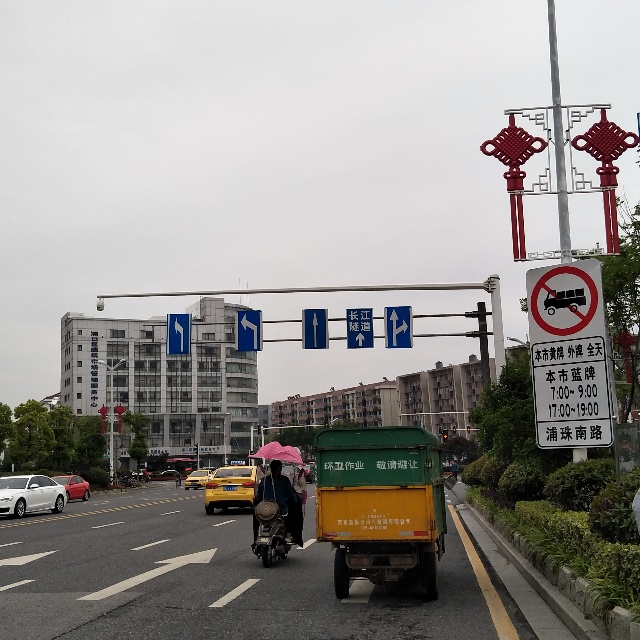left: (237, 310, 262, 353), (166, 313, 191, 355)
straight: (304, 310, 327, 349), (354, 330, 369, 352)
